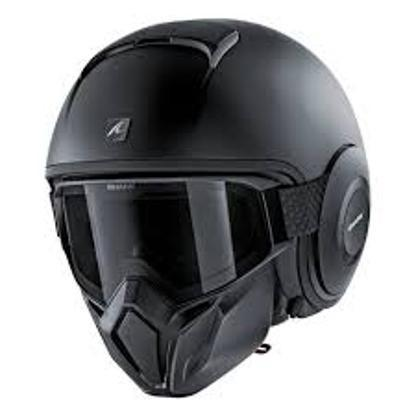not trash: (43, 20, 369, 400)
